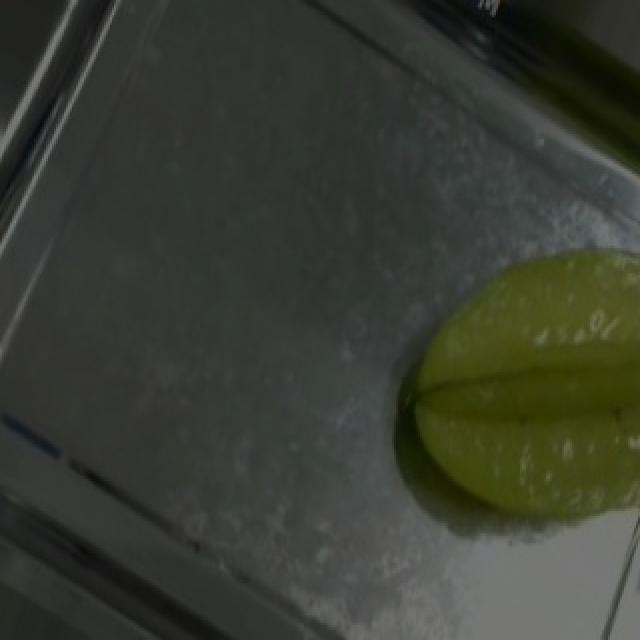fruit: (376, 201, 640, 563)
